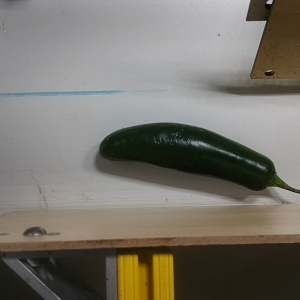Cut Point: (249, 153, 286, 197)
